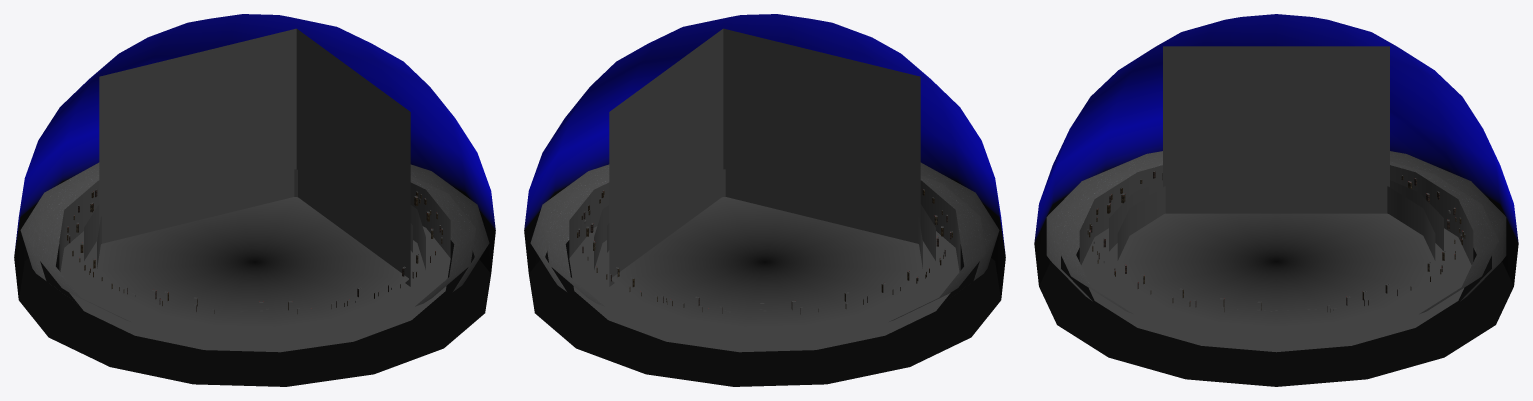
The model's file is D3_SKYDOOM_SNOW.glb.
3 views of the same model, side by side, from view 1: azimuth 30°, elevation 25°; view 2: azimuth 150°, elevation 25°; view 3: azimuth 270°, elevation 25° (orthographic).
Visible parts, largest first — view 1: in, obj2, BK, BILL_IN, y2, y, BILL_IN2, bill, obj55; view 2: in, obj2, BK, BILL_IN, y2, y, BILL_IN2, bill; view 3: obj2, in, BK, BILL_IN, y2, y, BILL_IN2, bill, obj55.
Part boxes in pixels (left/top/right/bottom): in: left=99, top=28, right=410, bottom=286; obj2: left=14, top=14, right=495, bottom=386; BK: left=97, top=169, right=412, bottom=328; BILL_IN: left=59, top=180, right=450, bottom=352; y2: left=34, top=175, right=476, bottom=321; y: left=20, top=162, right=489, bottom=291; BILL_IN2: left=84, top=204, right=425, bottom=269; bill: left=67, top=189, right=442, bottom=313; obj55: left=76, top=195, right=433, bottom=310; in: left=609, top=28, right=920, bottom=286; obj2: left=524, top=14, right=1005, bottom=386; BK: left=607, top=169, right=922, bottom=328; BILL_IN: left=569, top=180, right=960, bottom=352; y2: left=543, top=175, right=985, bottom=321; y: left=530, top=162, right=999, bottom=291; BILL_IN2: left=594, top=204, right=935, bottom=269; bill: left=577, top=189, right=952, bottom=314; obj2: left=1034, top=14, right=1518, bottom=386; in: left=1163, top=46, right=1389, bottom=213; BK: left=1117, top=186, right=1435, bottom=328; BILL_IN: left=1079, top=165, right=1473, bottom=352; y2: left=1054, top=161, right=1498, bottom=314; y: left=1046, top=151, right=1506, bottom=301; BILL_IN2: left=1109, top=180, right=1443, bottom=251; bill: left=1087, top=171, right=1465, bottom=312; obj55: left=1103, top=173, right=1449, bottom=310.
Size of the model in its own units: 3199 by 1915 by 3199.
18 materials, 18 textured.
